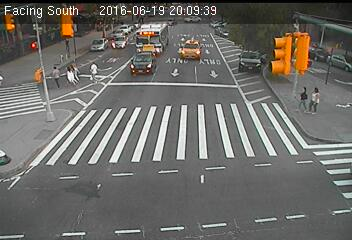neg: (290, 29, 318, 66), (181, 38, 207, 73), (22, 43, 42, 69), (33, 92, 52, 117), (226, 45, 243, 68), (325, 52, 339, 71)
pos: (56, 62, 78, 91), (291, 84, 311, 112), (307, 86, 327, 113), (88, 60, 105, 83), (48, 64, 63, 85), (56, 34, 71, 55)
